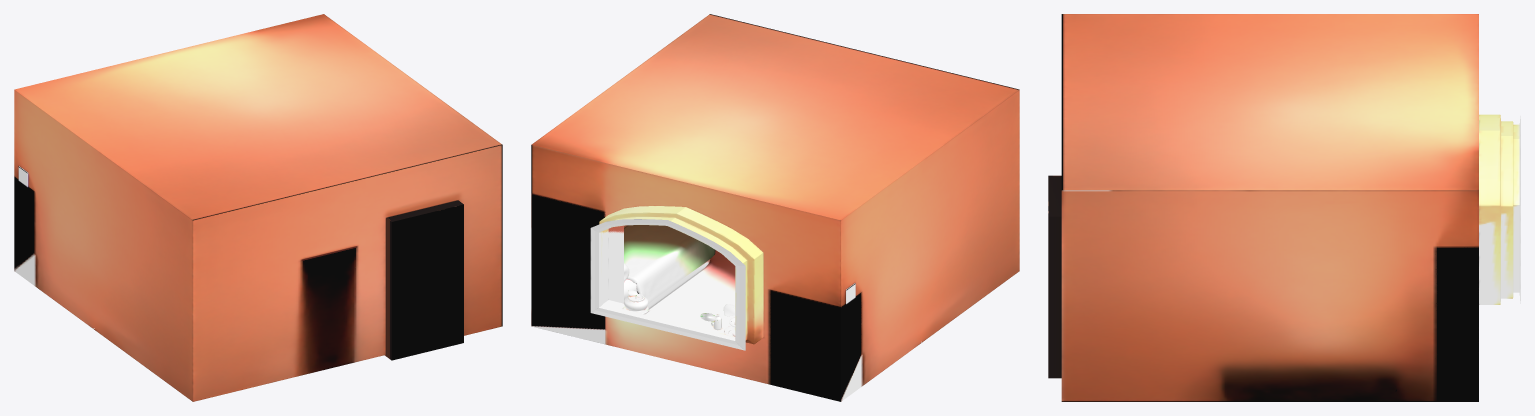
Rendered from room.glb.
The picture shows the model from 3 angles, left to right: view 1: azimuth 30°, elevation 25°; view 2: azimuth 150°, elevation 25°; view 3: azimuth 270°, elevation 25°; orthographic projection. The views are drawn at different scales.
Visible parts, largest first — view 1: Ceiling, SWall, WWall, Cube.039; view 2: Ceiling, NWall, WWall, Cube.006, Blanket, Floor; view 3: EWall, Ceiling, NWall, Cube.039.
Part boxes in pixels (bbox=[...]): Ceiling: bbox=[14, 14, 502, 220]; SWall: bbox=[193, 145, 502, 401]; WWall: bbox=[14, 90, 192, 401]; Cube.039: bbox=[385, 200, 463, 360]; Ceiling: bbox=[531, 14, 1019, 220]; NWall: bbox=[531, 145, 840, 401]; WWall: bbox=[841, 90, 1019, 401]; Cube.006: bbox=[531, 193, 623, 344]; Blanket: bbox=[624, 225, 715, 304]; Floor: bbox=[648, 250, 735, 328]; EWall: bbox=[1061, 190, 1478, 401]; Ceiling: bbox=[1061, 14, 1478, 190]; NWall: bbox=[1479, 114, 1520, 304]; Cube.039: bbox=[1048, 175, 1061, 378].
Bounding box in the file's own units: 2.01 × 1.13 × 2.26.
16 materials, 16 textured.
